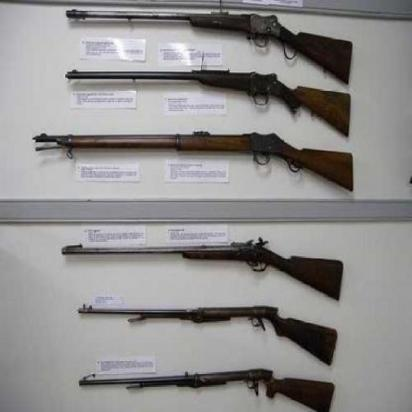Gun: (61, 51, 361, 147), (37, 231, 350, 317), (28, 125, 360, 199), (61, 285, 344, 357), (68, 6, 350, 66), (75, 361, 342, 411)
